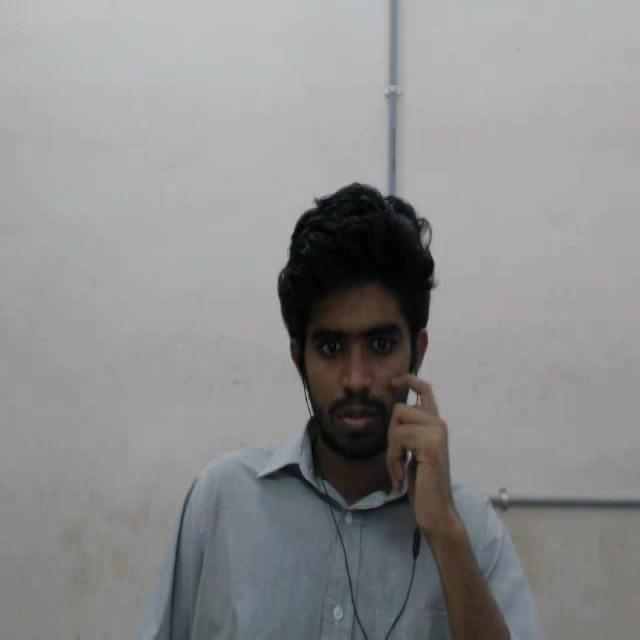Bored: (252, 160, 468, 506)
